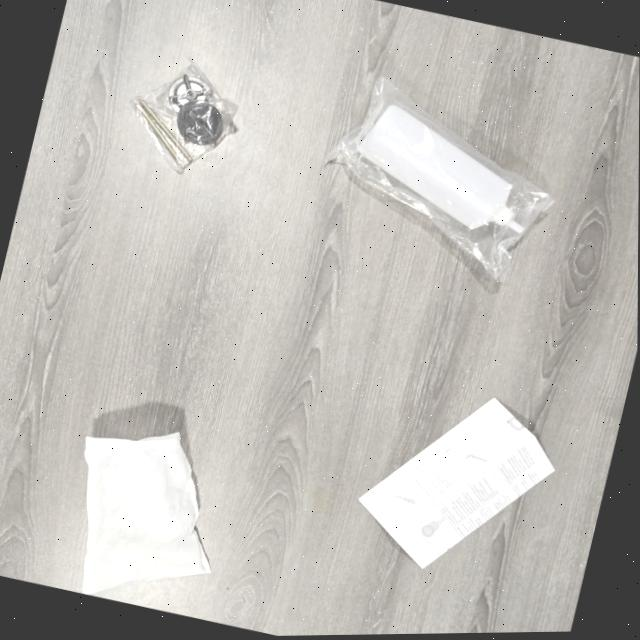2c: (81, 431, 209, 594)
3: (327, 76, 552, 280)
7: (133, 63, 237, 173)
8: (358, 397, 553, 567)
